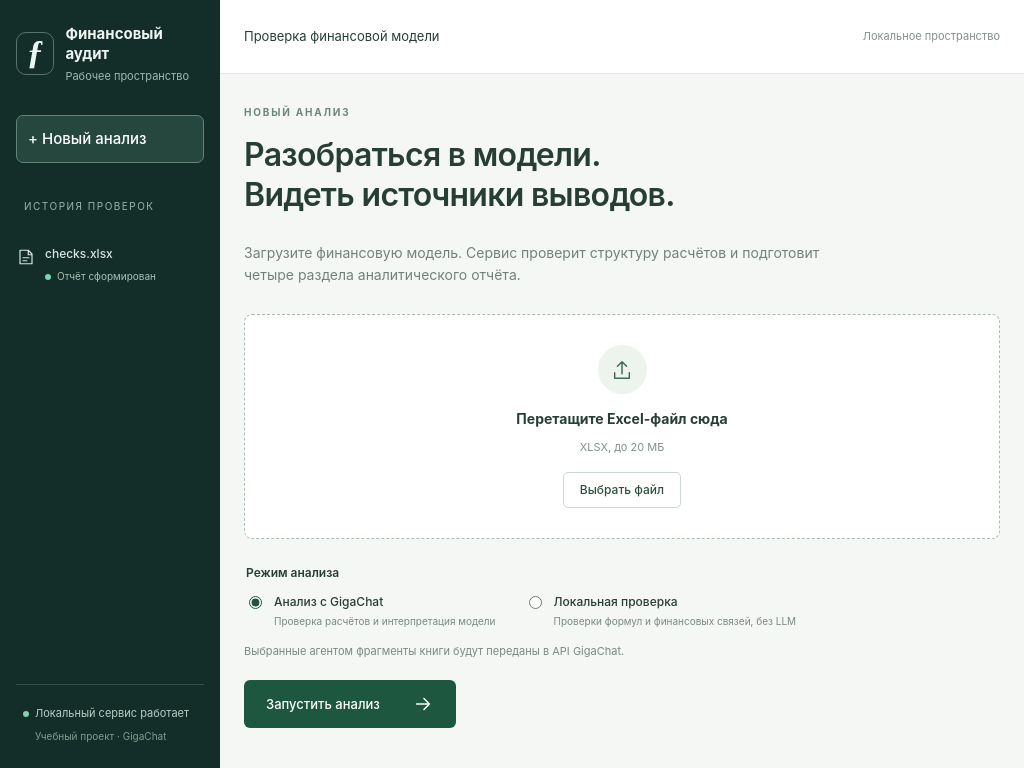
Test: financial finding opens the original cell drawer with the correct sheet
Step 1. Click the button "checks.xlsx Отчёт сформирован" → (110,264), box [8, 231, 212, 298]
(page scrolled)
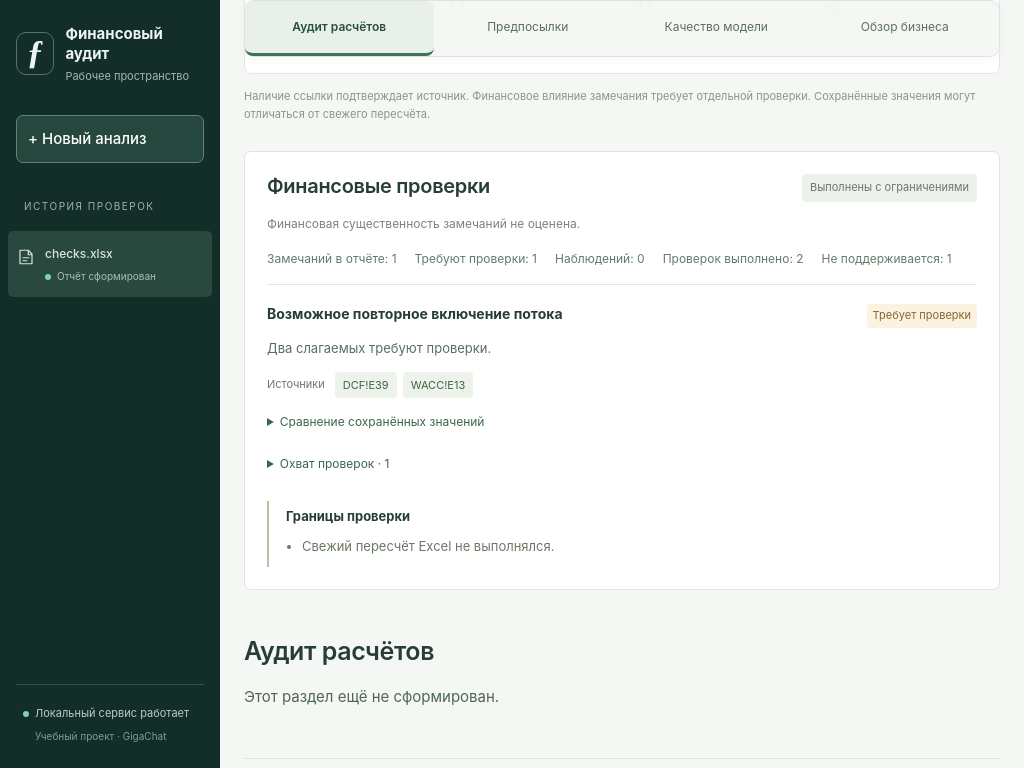
Step 2. Click the button "WACC!E13" → (438,385), box [403, 372, 473, 398]
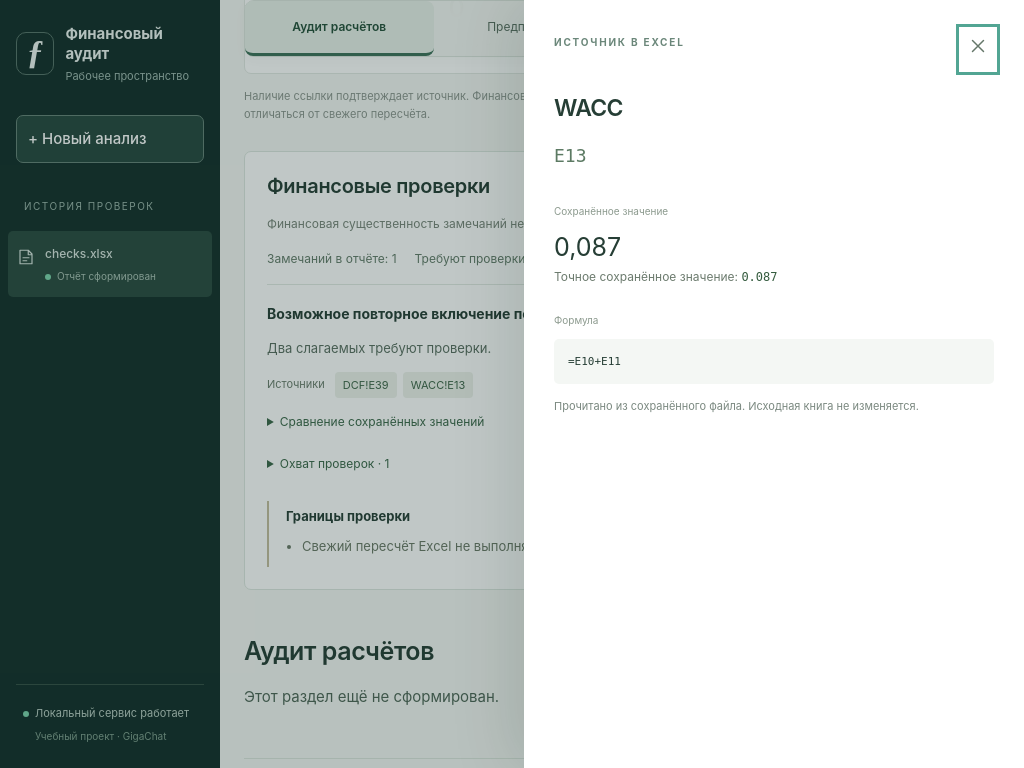
Expected: the text "=E10+E11" is shown, [554, 339, 994, 384]
Expected: the heading "WACC" is shown, [554, 94, 623, 122]
